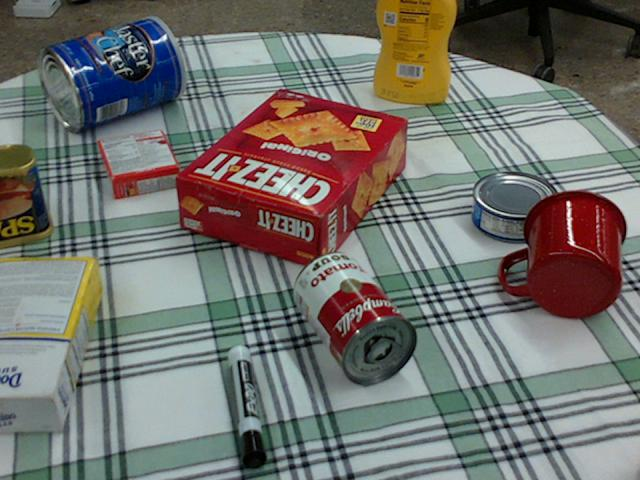cracker_box: (174, 89, 409, 269)
gelatin_box: (97, 128, 181, 200)
large_marker: (228, 345, 265, 471)
master_chef_can: (38, 16, 186, 133)
mug: (500, 188, 625, 317)
mustard_bottle: (373, 0, 456, 103)
potted_meat_can: (0, 143, 54, 247)
sugar_box: (0, 256, 98, 431)
tomato_soup_can: (293, 249, 417, 384)
tuna_fish_can: (473, 170, 560, 242)
